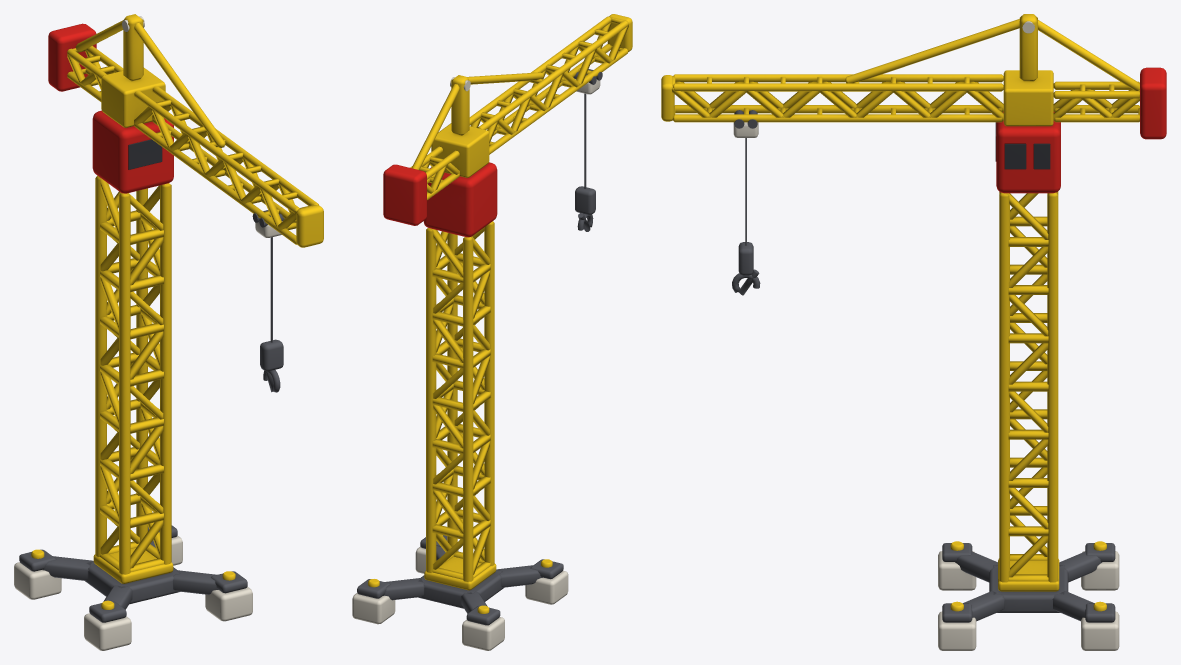
File: crane.fbx
3 renders of one model, left to right at view 1: azimuth 30°, elevation 25°; view 2: azimuth 150°, elevation 25°; view 3: azimuth 270°, elevation 25°, orthographic. The views are drawn at different scales.
Parts seen in each view (by area): view 1: crane; view 2: crane; view 3: crane.
Boxes of the visible parts, <box> form: crane: <box>14,14,323,650</box>; crane: <box>352,14,632,650</box>; crane: <box>661,14,1166,650</box>.
Bounding box in the file's own units: 2180 × 7940 × 6080.
Materials: 1 (1 with a texture image).
